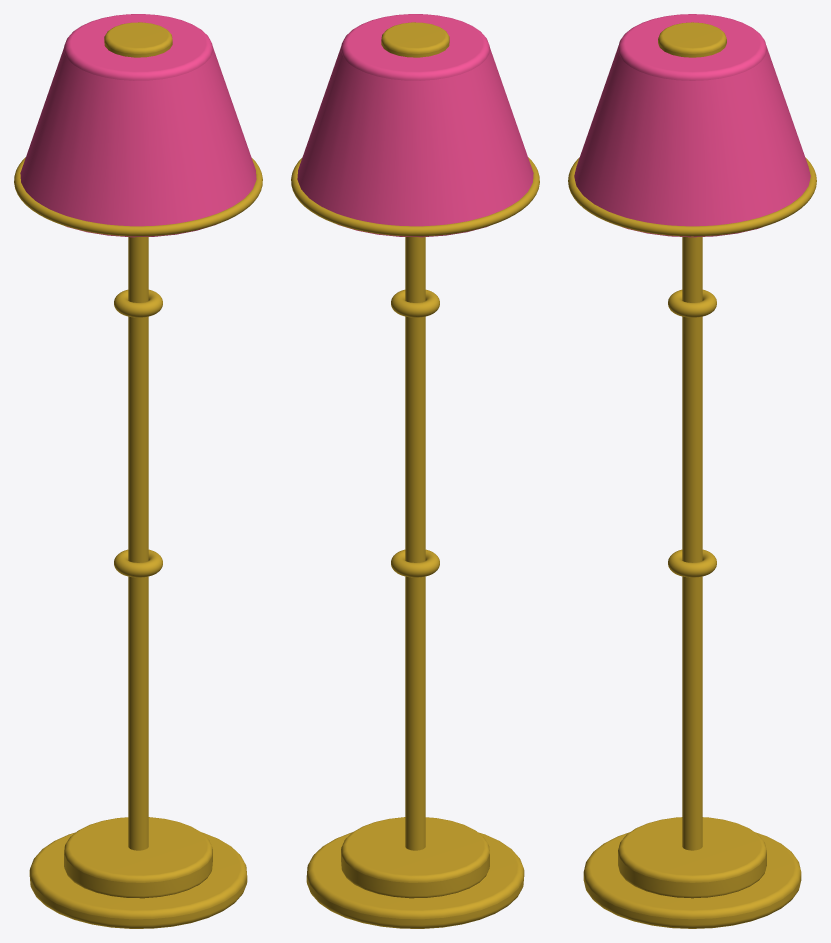
The model's file is lobby-floor-lamp.glb.
3 renders of one model, left to right at view 1: azimuth 30°, elevation 25°; view 2: azimuth 150°, elevation 25°; view 3: azimuth 270°, elevation 25°, orthographic.
Parts seen in each view (by area): view 1: shade, stem, base.step, base, shade.rim, shade.cap, collar.low, collar; view 2: shade, stem, base.step, base, shade.rim, shade.cap, collar.low, collar; view 3: shade, stem, base.step, base, shade.rim, shade.cap, collar, collar.low.
Boxes of the visible parts, box(x1,y1,x2,y2) form: shade: box(20, 14, 256, 237); stem: box(128, 237, 148, 850); base.step: box(64, 817, 212, 898); base: box(29, 832, 247, 928); shade.rim: box(14, 157, 262, 236); shade.cap: box(104, 22, 172, 57); collar.low: box(114, 549, 162, 577); collar: box(114, 289, 162, 317); shade: box(297, 14, 533, 237); stem: box(405, 237, 425, 850); base.step: box(341, 817, 489, 898); base: box(306, 832, 524, 928); shade.rim: box(291, 157, 539, 236); shade.cap: box(381, 22, 449, 57); collar.low: box(391, 549, 439, 577); collar: box(391, 289, 439, 317); shade: box(574, 14, 810, 237); stem: box(682, 237, 702, 850); base.step: box(618, 817, 766, 898); base: box(583, 832, 801, 928); shade.rim: box(568, 157, 816, 236); shade.cap: box(658, 22, 726, 57); collar: box(668, 289, 716, 317); collar.low: box(668, 549, 716, 577).
Size of the model in its own units: 0.434 by 1.63 by 0.434.
